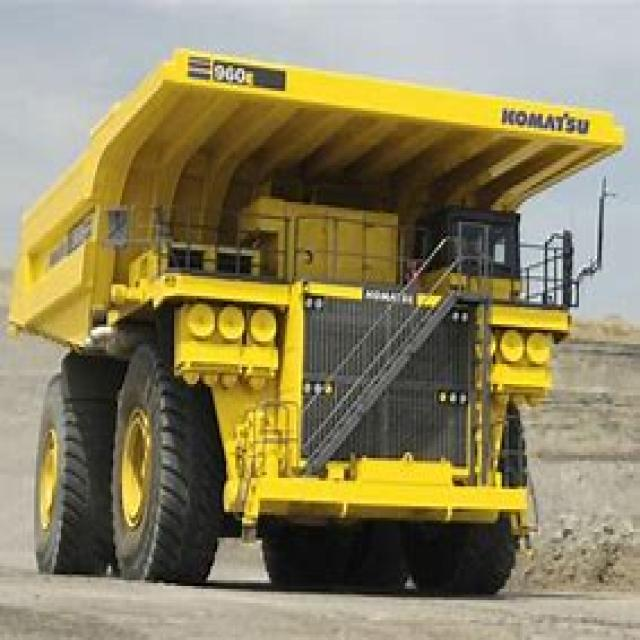dump_truck: (13, 43, 620, 600)
